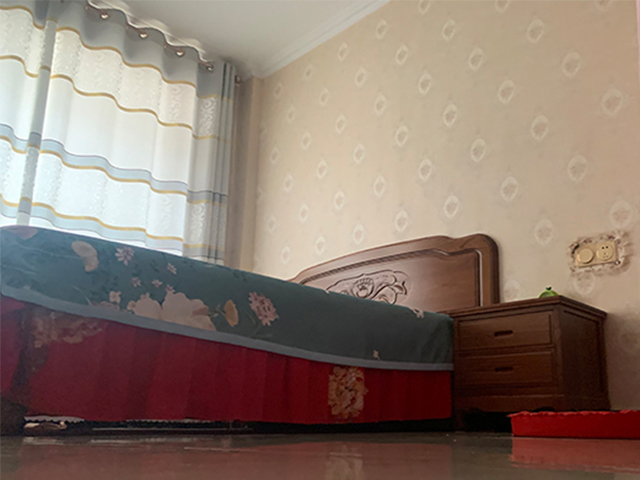bed: (1, 225, 501, 436)
cabinet: (446, 294, 611, 432)
curtain: (1, 1, 233, 265)
